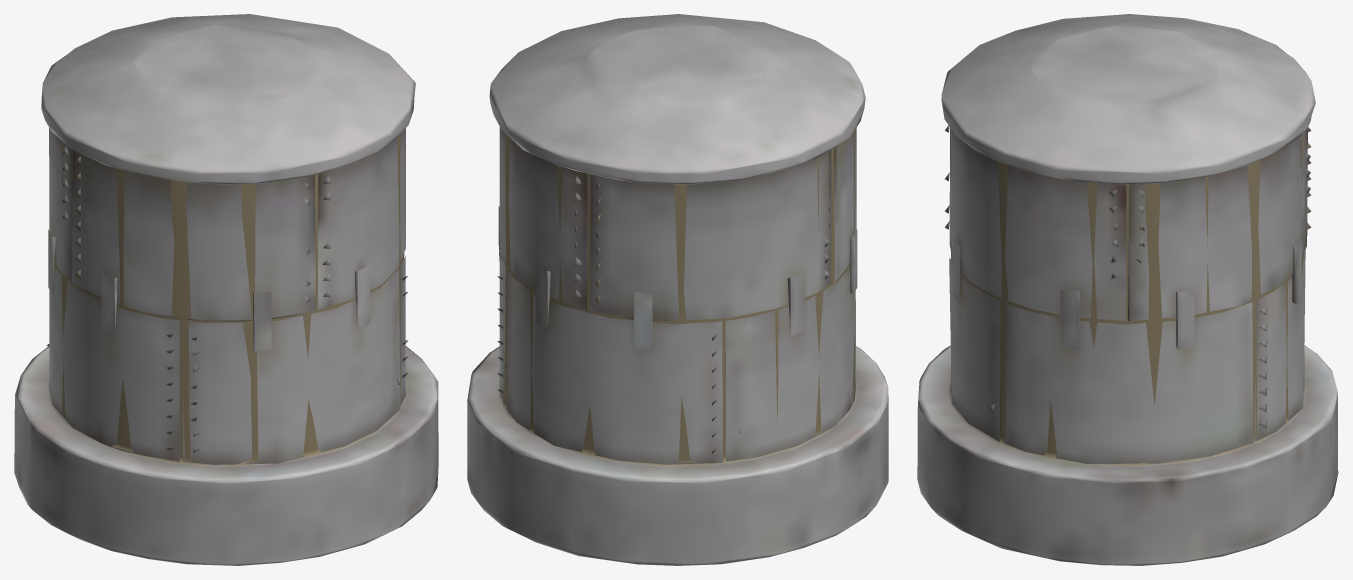
Rendered from WaterTank_Metal_C.glb.
3 views of the same model, side by side, from view 1: azimuth 30°, elevation 25°; view 2: azimuth 150°, elevation 25°; view 3: azimuth 270°, elevation 25° (orthographic).
Parts seen in each view (by area): view 1: SM_WaterTank; view 2: SM_WaterTank; view 3: SM_WaterTank.
Part boxes in pixels (x1,y1,x2,y2): SM_WaterTank: (14, 14, 438, 565); SM_WaterTank: (467, 14, 888, 565); SM_WaterTank: (917, 14, 1338, 565).
Size of the model in its own units: 1.73 by 1.88 by 1.73.
1 material, 1 textured.
